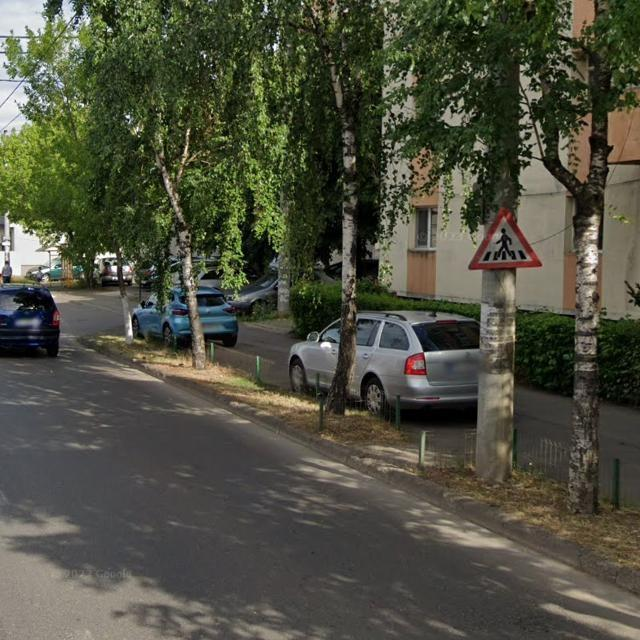warn_crosswalk: (467, 206, 543, 269)
